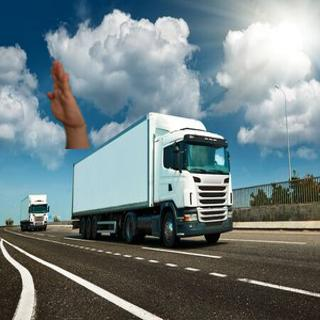RIGHT: (45, 59, 90, 131)
